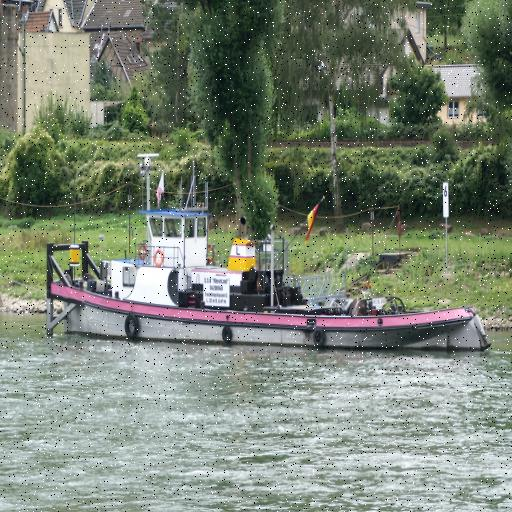tugboat: (45, 152, 494, 369)
